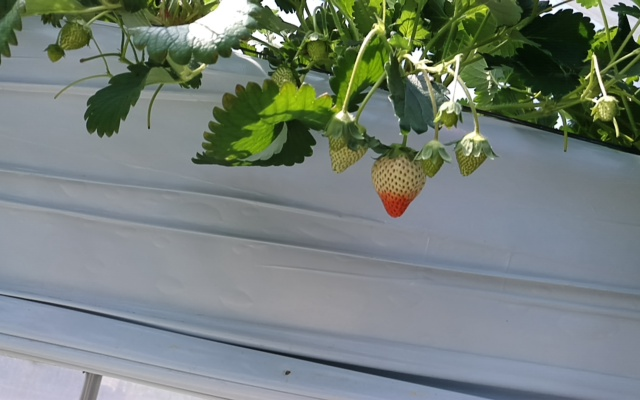GreenStrawberry: (369, 145, 427, 221), (325, 127, 368, 175), (453, 128, 494, 178), (55, 16, 94, 52), (419, 136, 445, 178), (327, 114, 353, 152), (264, 64, 296, 92), (302, 31, 328, 65), (437, 97, 462, 131), (595, 93, 619, 126), (45, 43, 65, 65)
